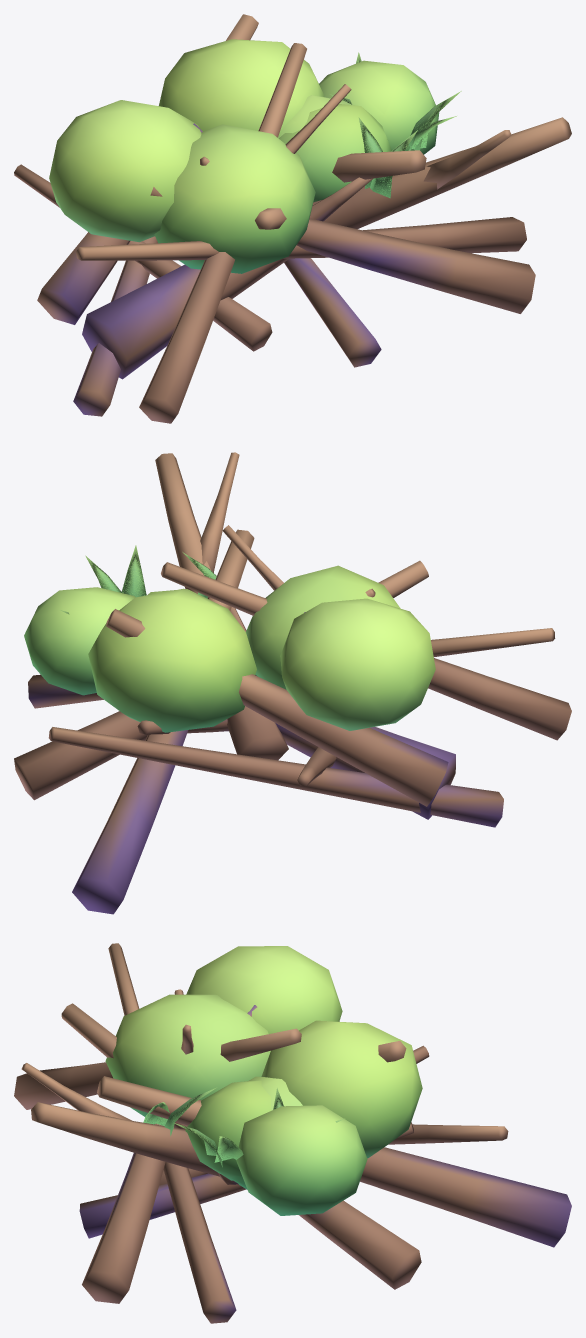
File: verdant_log_branch_pile.glb
3 renders of one model, top to bottom at view 1: azimuth 30°, elevation 25°; view 2: azimuth 150°, elevation 25°; view 3: azimuth 270°, elevation 25°, orthographic. The views are drawn at different scales.
Parts seen in each view (by area): view 1: verdant_log_branch_pile; view 2: verdant_log_branch_pile; view 3: verdant_log_branch_pile.
Part boxes in pixels (bbox=[...]): verdant_log_branch_pile: bbox=[14, 14, 571, 423]; verdant_log_branch_pile: bbox=[14, 452, 571, 914]; verdant_log_branch_pile: bbox=[14, 943, 571, 1323].
Size of the model in its own units: 2.68 by 1.33 by 2.71.
